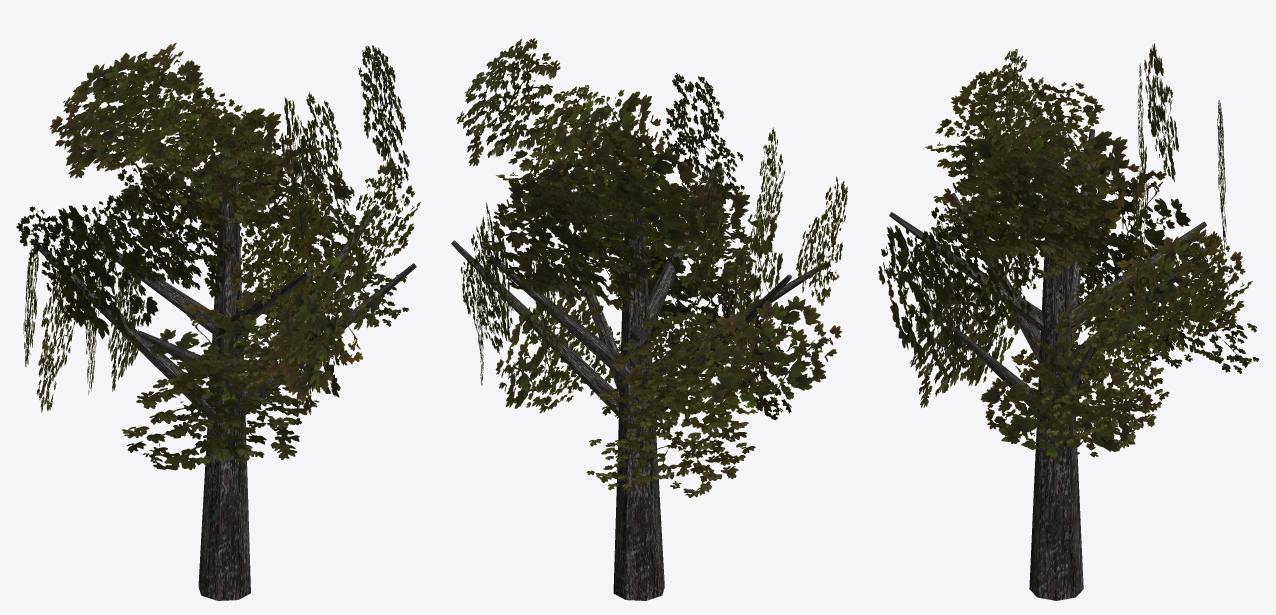
Rendered from broadleaf_green_512_material_test.glb.
The picture shows the model from 3 angles, left to right: view 1: azimuth 30°, elevation 25°; view 2: azimuth 150°, elevation 25°; view 3: azimuth 270°, elevation 25°; orthographic projection. The views are drawn at different scales.
Visible parts, largest first — view 1: foliage_cards, trunk, branch_3, branch_2, branch_6, branch_5, branch_4, branch_0; view 2: foliage_cards, trunk, branch_0, branch_1, branch_5, branch_3, branch_6, branch_4; view 3: foliage_cards, trunk, branch_5, branch_6, branch_2, branch_4, branch_3, branch_1.
Part boxes in pixels (bbox=[...]): foliage_cards: bbox=[16, 43, 420, 470]; trunk: bbox=[198, 161, 250, 600]; branch_3: bbox=[35, 244, 216, 419]; branch_2: bbox=[71, 225, 214, 334]; branch_6: bbox=[240, 263, 416, 414]; branch_5: bbox=[219, 271, 310, 337]; branch_4: bbox=[137, 331, 224, 381]; branch_0: bbox=[245, 204, 379, 392]; foliage_cards: bbox=[456, 38, 847, 497]; trunk: bbox=[613, 173, 664, 600]; branch_0: bbox=[451, 240, 619, 414]; branch_1: bbox=[492, 256, 631, 379]; branch_5: bbox=[649, 162, 721, 333]; branch_3: bbox=[644, 274, 791, 414]; branch_6: bbox=[560, 224, 619, 393]; branch_4: bbox=[649, 263, 823, 379]; foliage_cards: bbox=[878, 43, 1259, 457]; trunk: bbox=[1029, 165, 1083, 600]; branch_5: bbox=[889, 212, 1043, 331]; branch_6: bbox=[951, 326, 1052, 421]; branch_2: bbox=[1071, 221, 1206, 327]; branch_4: bbox=[951, 193, 1040, 363]; branch_3: bbox=[1069, 129, 1094, 348]; branch_1: bbox=[1066, 248, 1207, 370].
Size of the model in its own units: 5.85 by 7.62 by 5.11.
2 materials, 2 textured.
